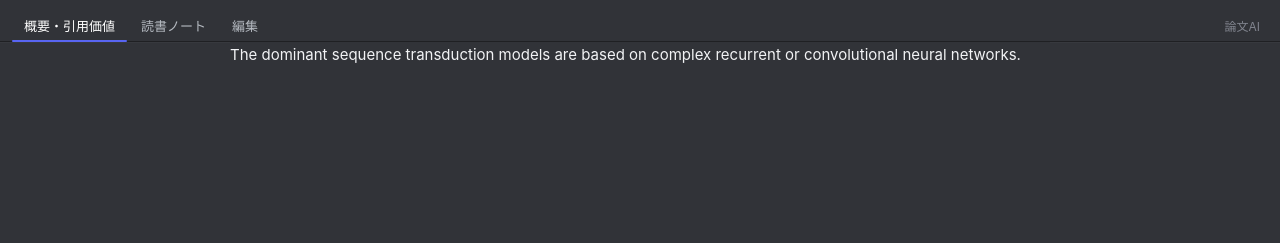
Scenario: PaperViewer › switches to reading-notes tab
Click the button "読書ノート": (174,26) [129,12,218,41]
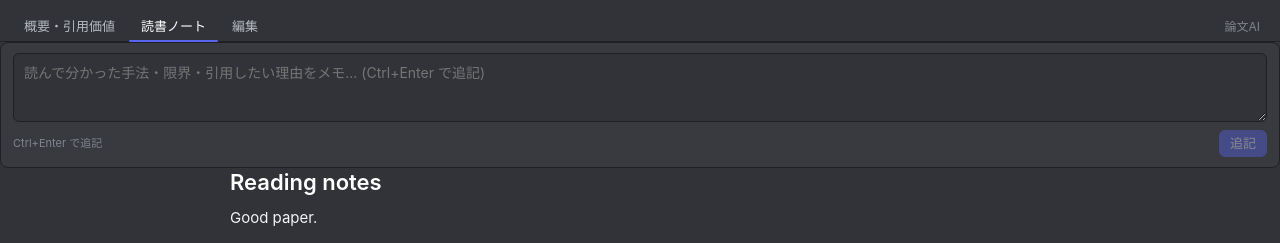
Expected: the text box with placeholder "読んで分かった手法・限界・引用したい理由をメモ... (Ctrl+Enter で追記)" is shown, [13,53,1267,122]
